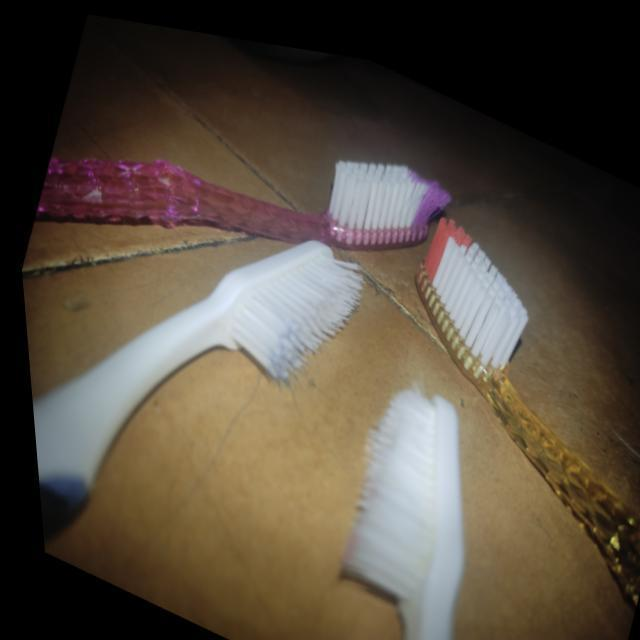toothbrush: (26, 223, 370, 558), (400, 191, 640, 611), (26, 134, 462, 266), (308, 366, 474, 640)
